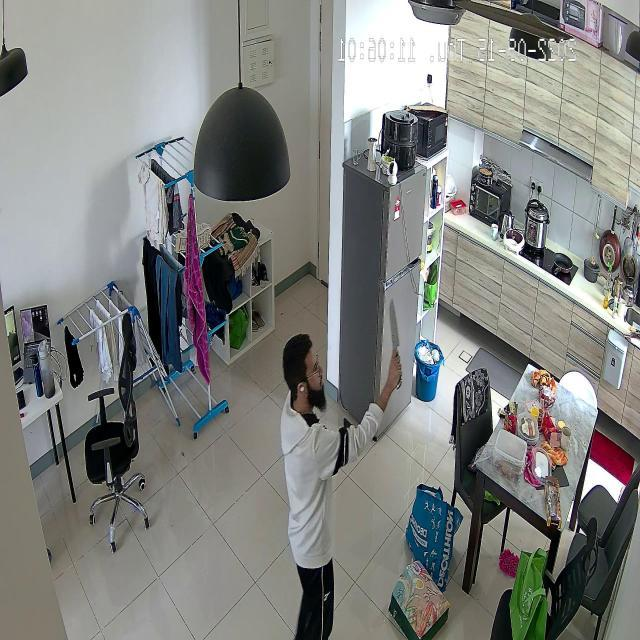Knife: (382, 284, 410, 372)
